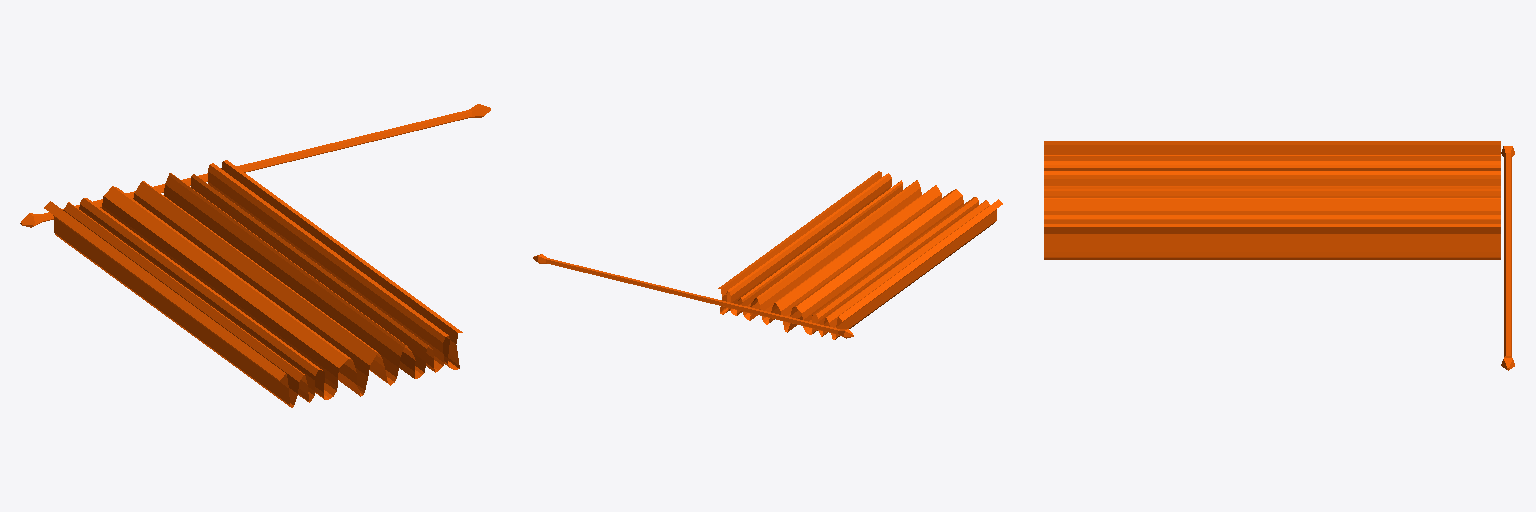
The robot description file, URDF, robot "Curtain_f56b182d8cd89803dc4f4fd3af459324":
<?xml version="1.0" ?>
<robot name="Curtain_f56b182d8cd89803dc4f4fd3af459324">
   <material name="obj_color">
      <color rgba="1.0 0.423529411765 0.0392156862745 1.0"/>
   </material>
   <link name="top">
      <inertial>
         <origin rpy="0.0006276042417125451 0.001208648259058253 0.001821253220313913" xyz="0.02424627051070137 0.008720745503596769 7.787092884426398e-05"/>
         <mass value="0.3876008104936884"/>
         <inertia ixx="0.001082972865100011" ixy="-0.0002392261055469745" ixz="7.128441668840938e-07" iyy="0.0007532807309716895" iyz="-4.039426870326516e-07" izz="0.001821252125013011"/>
      </inertial>
      <visual>
         <origin rpy="0 0 0" xyz="0 0 0"/>
         <geometry>
            <mesh filename="top_watertight_tiny.stl" scale="1 1 1"/>
         </geometry>
         <material name="obj_color"/>
      </visual>
      <collision>
         <origin rpy="0 0 0" xyz="0 0 0"/>
         <geometry>
            <mesh filename="top_watertight_tiny.obj" scale="1 1 1"/>
         </geometry>
      </collision>
   </link>
   <link name="bottom">
      <inertial>
         <origin rpy="1.633333333199431e-08 1.633333333199431e-08 1.633333333362855e-08" xyz="0.3464080000000008 0.3464080000000008 0.3464080000000008"/>
         <mass value="0.0009800000000000017"/>
         <inertia ixx="1.633333333253906e-08" ixy="5.447480642029219e-19" ixz="5.447480642029219e-19" iyy="1.633333333253906e-08" iyz="5.447480642029219e-19" izz="1.633333333253906e-08"/>
      </inertial>
      <visual>
         <origin rpy="0 0 0" xyz="0 0 0"/>
         <geometry>
            <mesh filename="bottom_watertight_tiny.stl" scale="1 1 1"/>
         </geometry>
         <material name="obj_color"/>
      </visual>
   </link>
   <link name="world"/>
   <joint name="world_to_base" type="fixed">
      <origin xyz="0 0 0"/>
      <axis xyz="0 0 0"/>
      <parent link="world"/>
      <child link="bottom"/>
   </joint>
   <joint name="rotation" type="revolute">
      <origin xyz="0 0 0"/>
      <axis xyz="0 0 -1"/>
      <parent link="bottom"/>
      <child link="top"/>
      <dynamics damping="1.0" friction="1.0"/>
      <limit effort="0.1" velocity="0.1" lower="0" upper="0.001"/>
   </joint>
</robot>

--- Facts derived from the render (not from the file) ---
The picture shows the robot from 3 angles, left to right: view 1: azimuth 30°, elevation 25°; view 2: azimuth 150°, elevation 25°; view 3: azimuth 270°, elevation 25°; orthographic projection.
Robot: Curtain_f56b182d8cd89803dc4f4fd3af459324 — 3 links, 2 joints (1 revolute, 1 fixed); root link world; default pose: all joints at 0.
Visible links, largest first — view 1: top; view 2: top; view 3: top.
Link boxes in pixels (x1,y1,x2,y2): top: [20, 104, 490, 407]; top: [533, 171, 1002, 339]; top: [1044, 141, 1514, 370].
Size in the robot's own frame: 0.2117 by 0.1897 by 0.0178 metres.
1 mesh visuals loaded from 2 distinct referenced files (1 binary STL); not drawn: 1 (reference not matched to a file when rendering).
